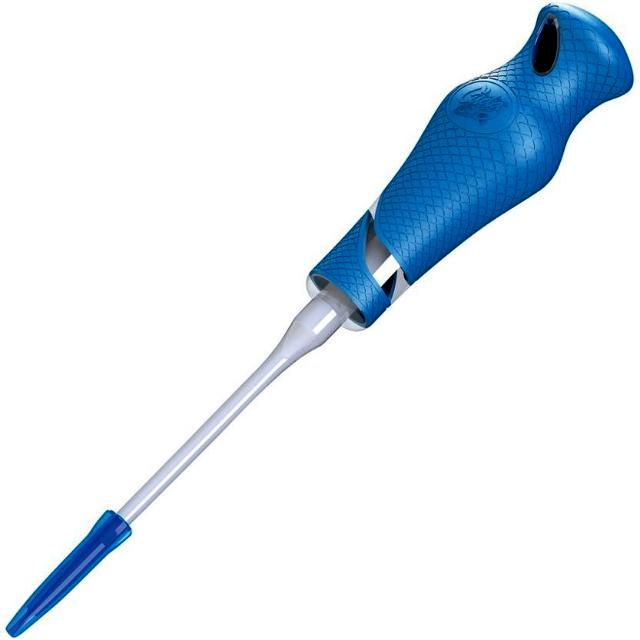ice pick: (8, 2, 634, 636)
